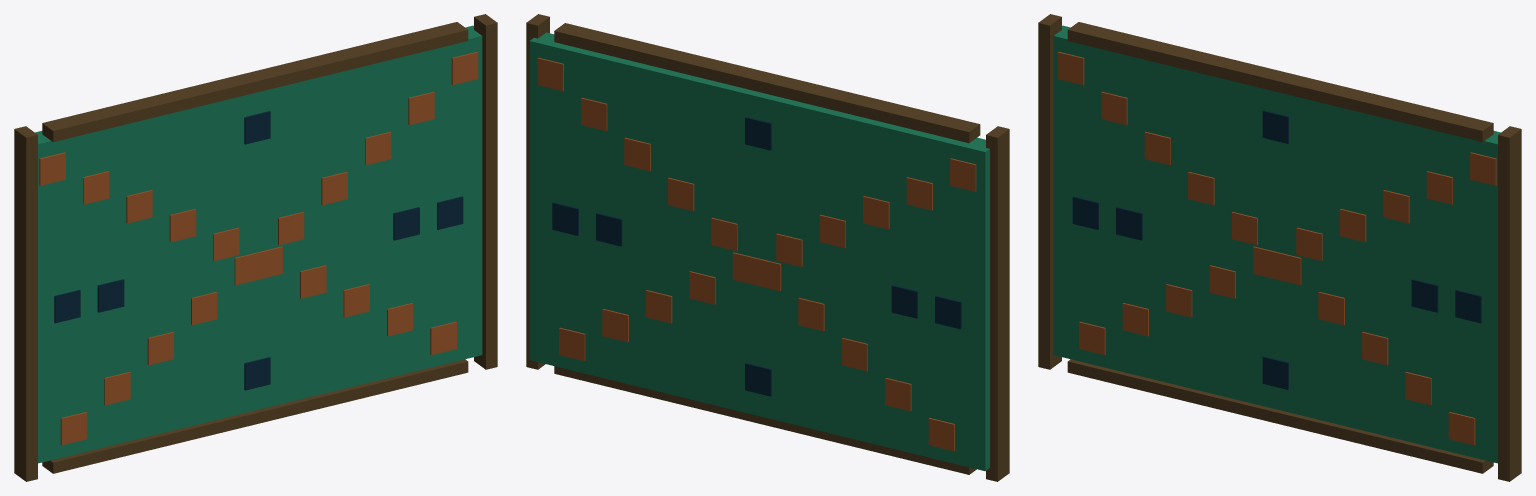
File: Cuadro con dibujo marco diferente.fbx
3 views of the same model, side by side, from view 1: azimuth 30°, elevation 25°; view 2: azimuth 150°, elevation 25°; view 3: azimuth 330°, elevation 25° (orthographic).
Parts seen in each view (by area): view 1: Cuadro con dibujo (marco diferente); view 2: Cuadro con dibujo (marco diferente); view 3: Cuadro con dibujo (marco diferente).
Part boxes in pixels (bbox=[...]): Cuadro con dibujo (marco diferente): bbox=[14, 14, 497, 481]; Cuadro con dibujo (marco diferente): bbox=[526, 14, 1009, 481]; Cuadro con dibujo (marco diferente): bbox=[1038, 14, 1521, 481].
Bounding box in the file's own units: 211 × 147 × 13.53.
